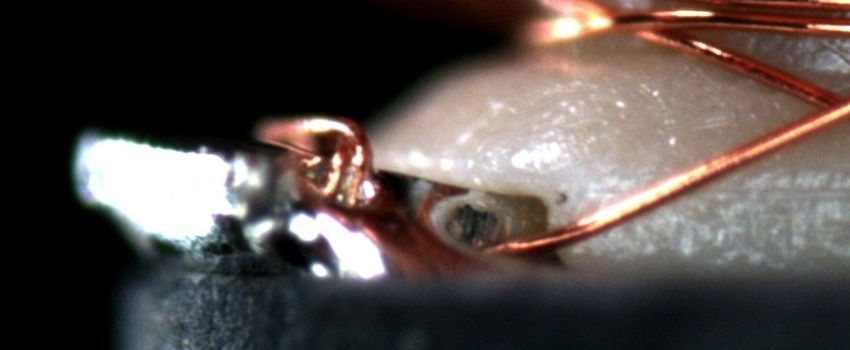CL: (795, 76, 849, 132)
DL: (590, 168, 849, 221)
TE: (248, 104, 383, 218)
